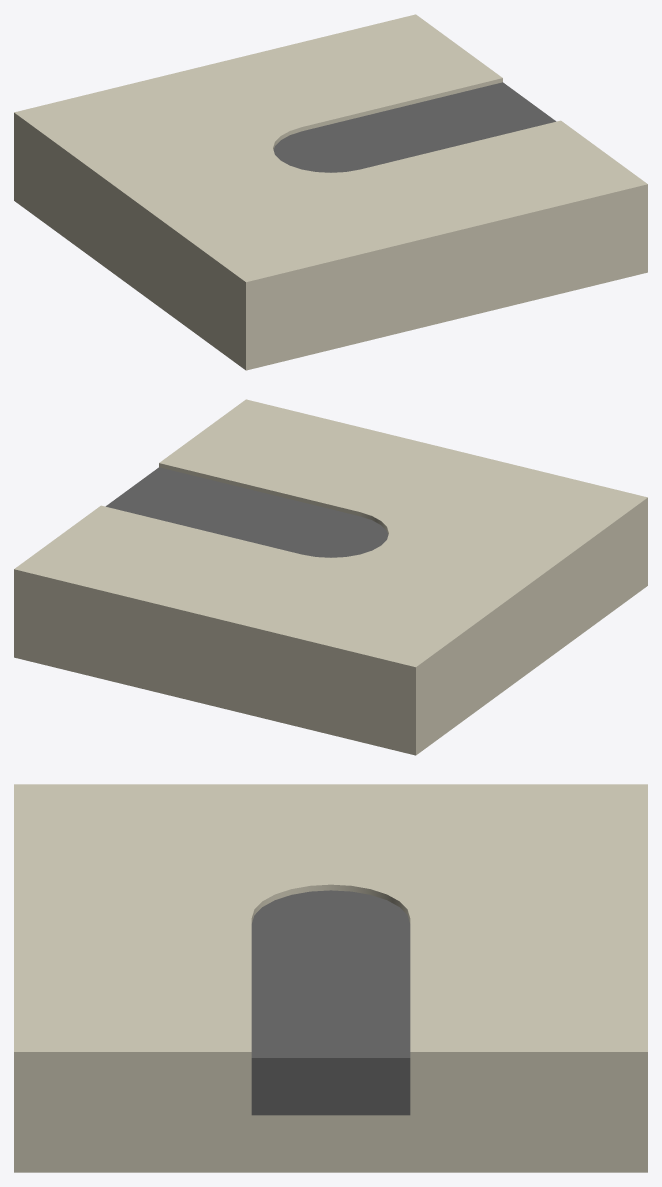
The model's file is roadTile_280.fbx.
3 renders of one model, top to bottom at view 1: azimuth 30°, elevation 25°; view 2: azimuth 150°, elevation 25°; view 3: azimuth 270°, elevation 25°, orthographic. The views are drawn at different scales.
Visible parts, largest first — view 1: roadTile_280; view 2: roadTile_280; view 3: roadTile_280.
Boxes of the visible parts, x1=… form: roadTile_280: x1=14, y1=14, x2=647, y2=370; roadTile_280: x1=14, y1=399, x2=647, y2=755; roadTile_280: x1=14, y1=784, x2=647, y2=1172.
Size of the model in its own units: 118 by 24.8 by 118.
